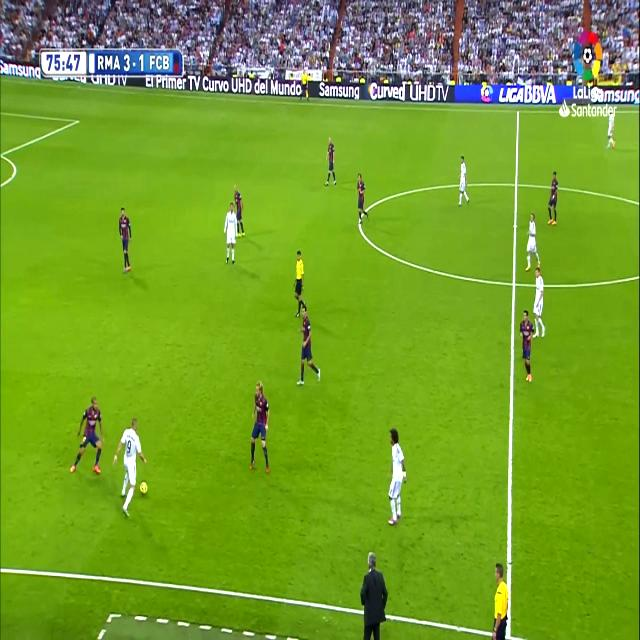bigarea_bottom_outter: (0, 145, 6, 162)
halfcircle_bottom: (508, 269, 520, 296)
halfcircle_top: (511, 172, 522, 196)
midline_top_intersection: (514, 104, 522, 118)
